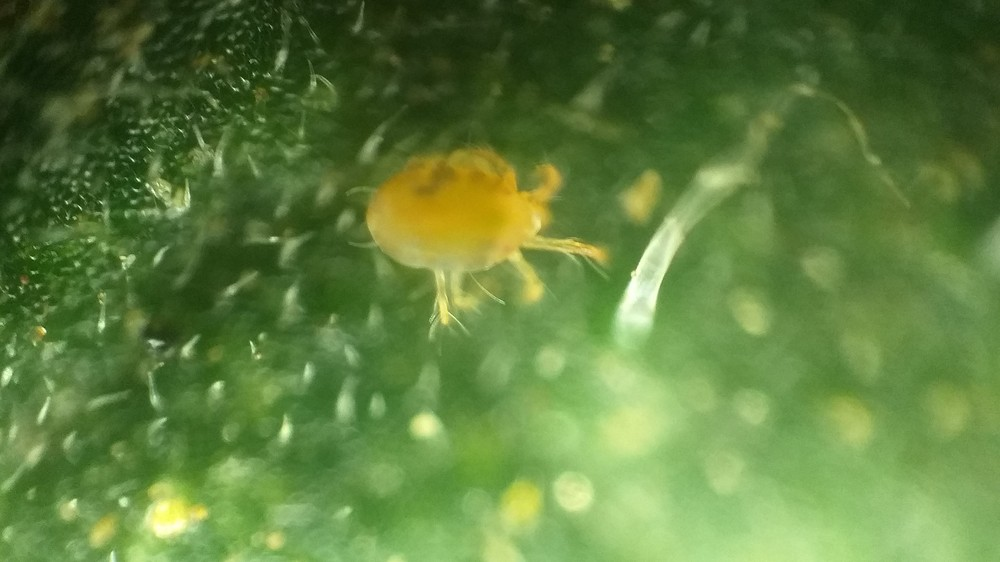Aracnido Rojo: (331, 121, 636, 342)
